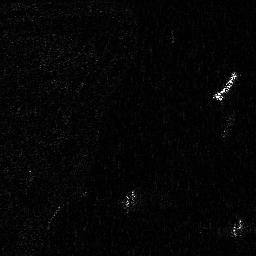ship: (211, 69, 240, 101)
